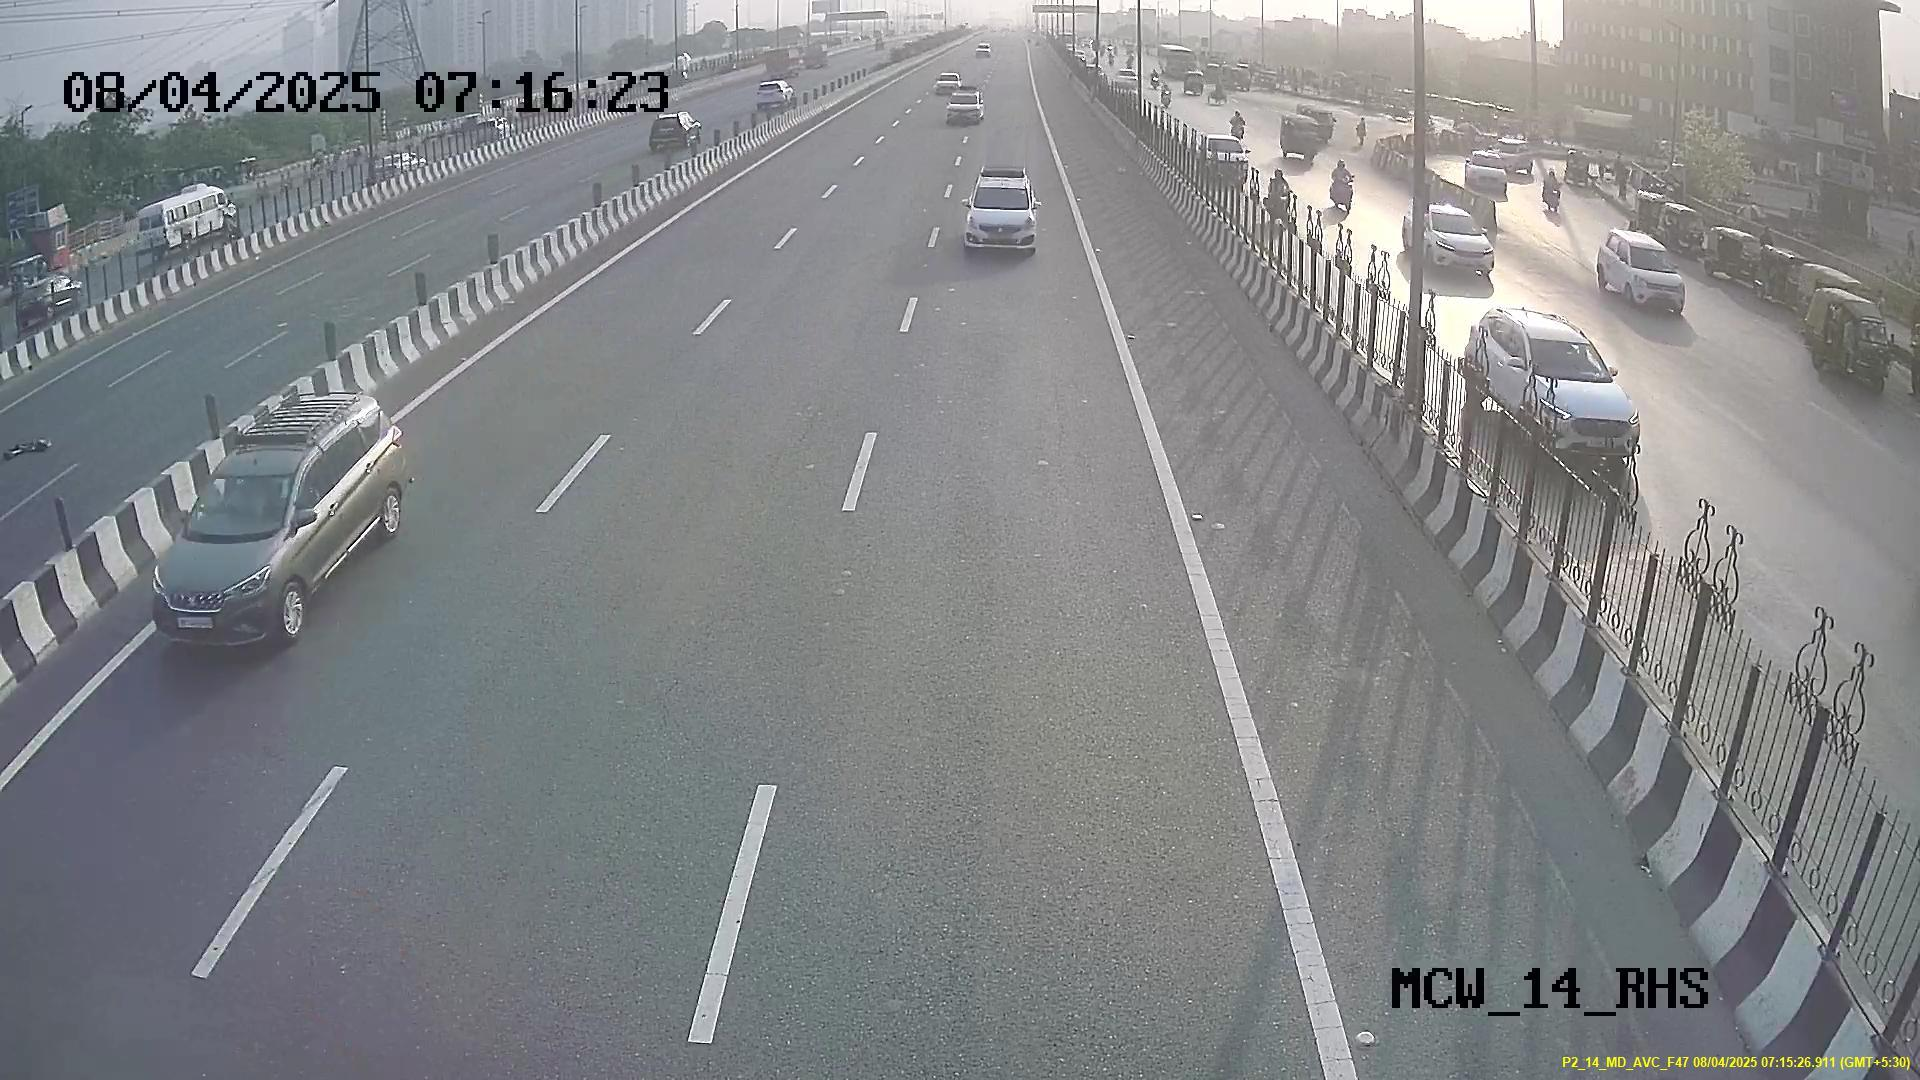car: (148, 430, 327, 649)
